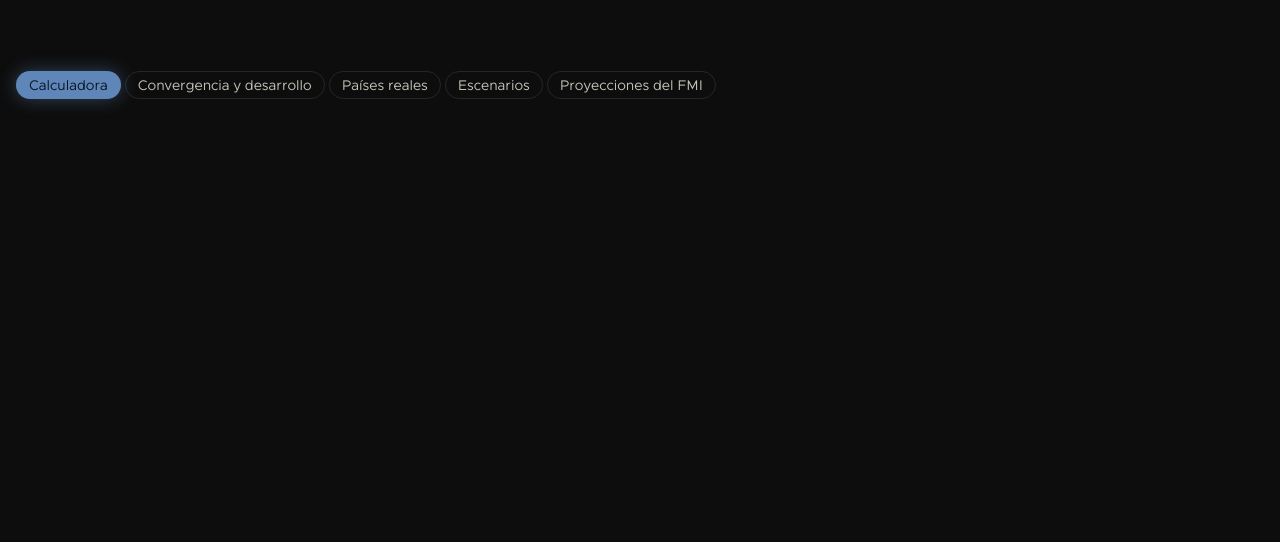
the projections of the IMF › opens on Argentina with the growth of 2026 to 2031 and the average, the doubling time and the year it implies
Click the tab "Proyecciones del FMI": (631, 85) [547,71,716,99]
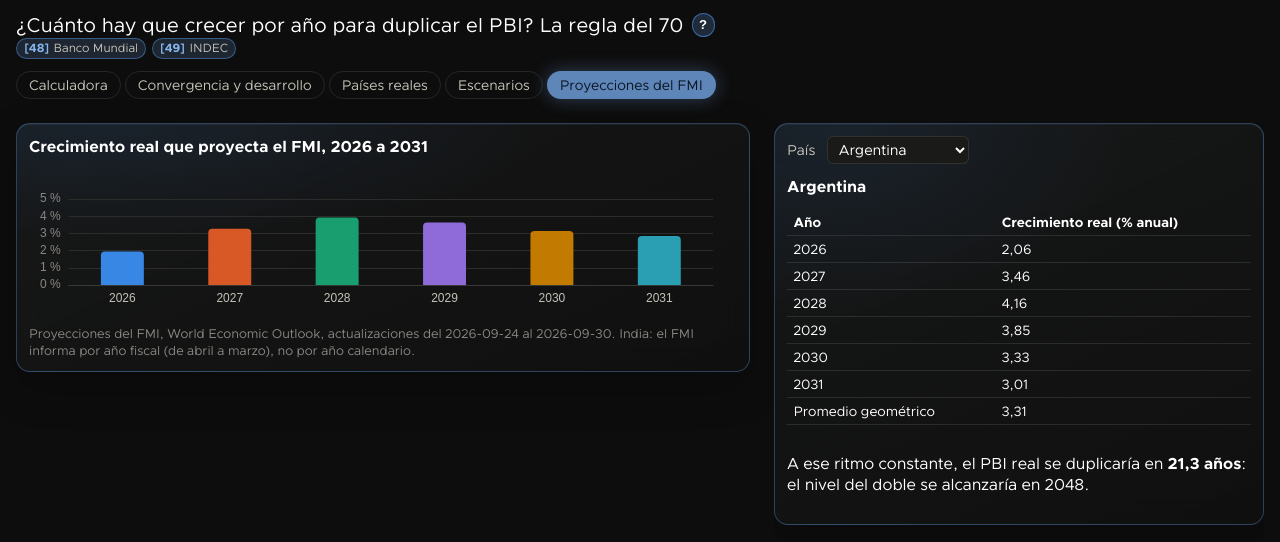
expect the dropdown labelled "País" shows "Argentina": met, box [828,136,970,165]
expect the number of rows is 8: met
expect the row "2026 2,06" is shown: met, box [787,236,1251,263]
